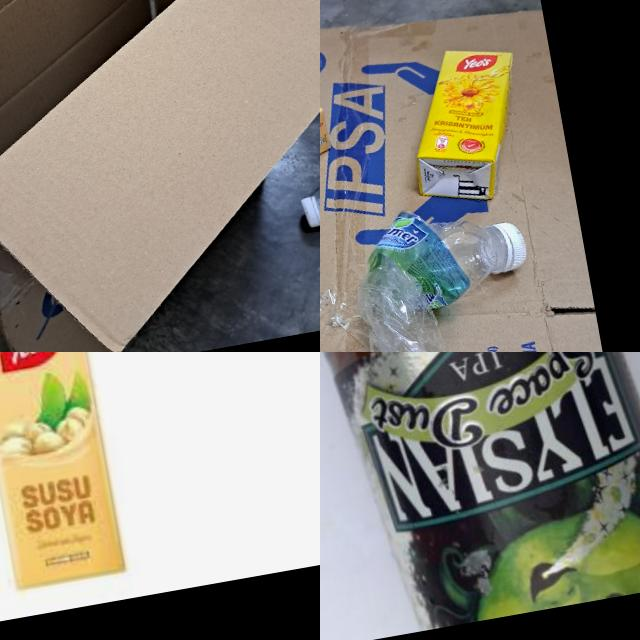caixinha: (0, 352, 127, 589), (394, 39, 536, 212)
garrafa de vidro: (320, 352, 640, 639)
garrafa plástica: (339, 192, 530, 352)
papelão: (0, 0, 320, 352), (320, 0, 633, 352)
tampa plástica: (486, 218, 531, 274), (299, 194, 320, 227)
